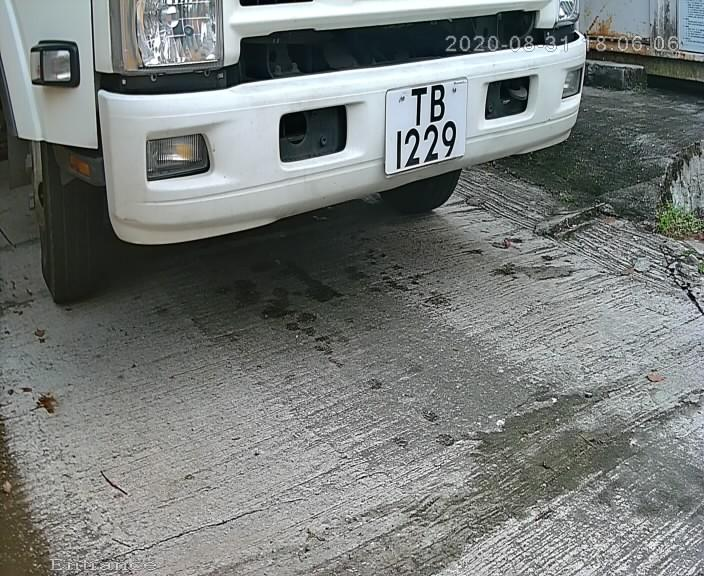License Plate: (353, 65, 488, 178)
